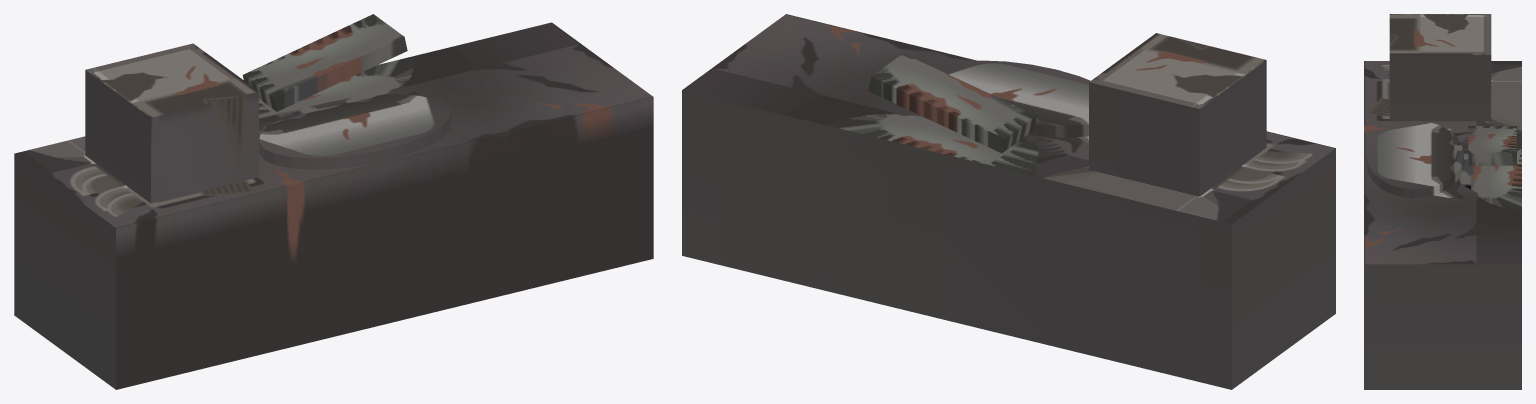
File: Building_AncientTableSmithingElectric.glb
The picture shows the model from 3 angles, left to right: view 1: azimuth 30°, elevation 25°; view 2: azimuth 150°, elevation 25°; view 3: azimuth 270°, elevation 25°; orthographic projection. The views are drawn at different scales.
Parts seen in each view (by area): view 1: AncientTableSmithingElectric; view 2: AncientTableSmithingElectric; view 3: AncientTableSmithingElectric.
Part boxes in pixels (x1=…): AncientTableSmithingElectric: x1=14, y1=14, x2=653, y2=389; AncientTableSmithingElectric: x1=682, y1=14, x2=1335, y2=389; AncientTableSmithingElectric: x1=1364, y1=14, x2=1521, y2=389.
Size of the model in its own units: 2.95 by 1.3 by 0.9688.
1 material, 1 textured.
